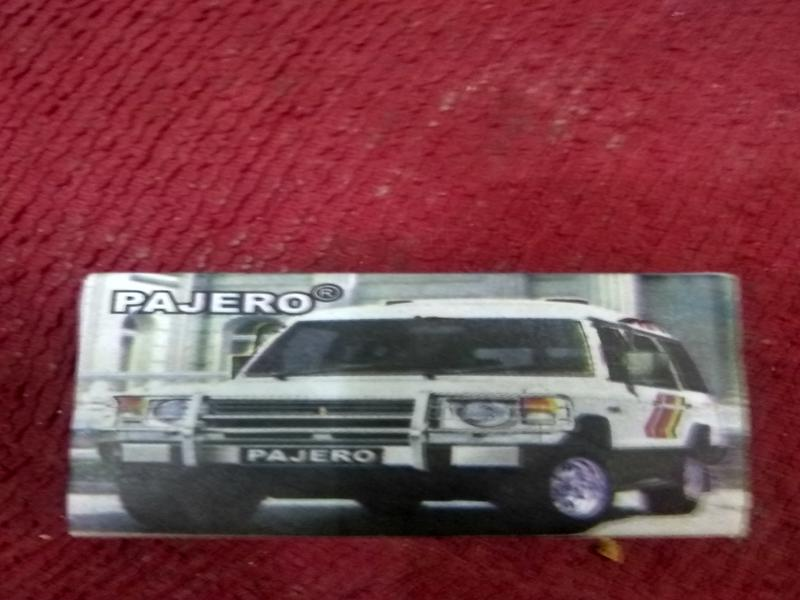pajero: (62, 270, 754, 539)
